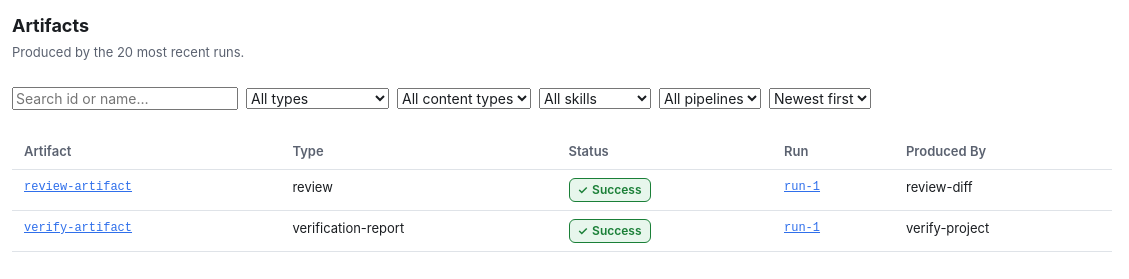
ArtifactsPage › shows a distinct empty state when filters match nothing, with a reset action
Expected: the link "review-artifact" is shown, [24,180,132,194]
Type "no-such-artifact" into the field named "Search artifacts". click: (125, 98)
box: [12,86,238,110]
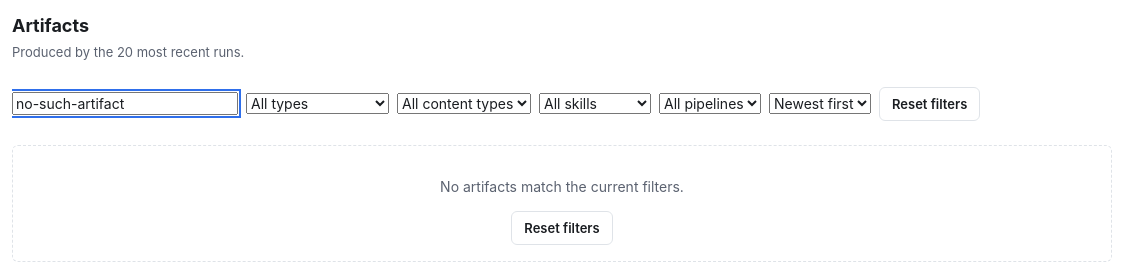
Now the text "No artifacts match the current filters." is shown, box [440,178,684,194]
Click the 1st button "Reset filters". click: (930, 104)
box: [879,86,980,120]
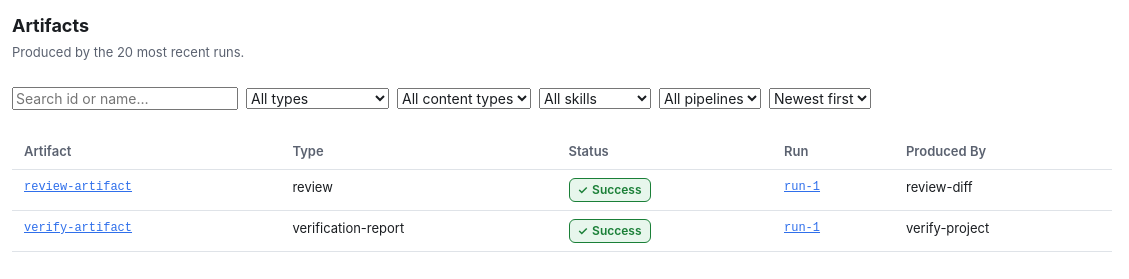
Now the link "review-artifact" is shown, box [24,180,132,194]
